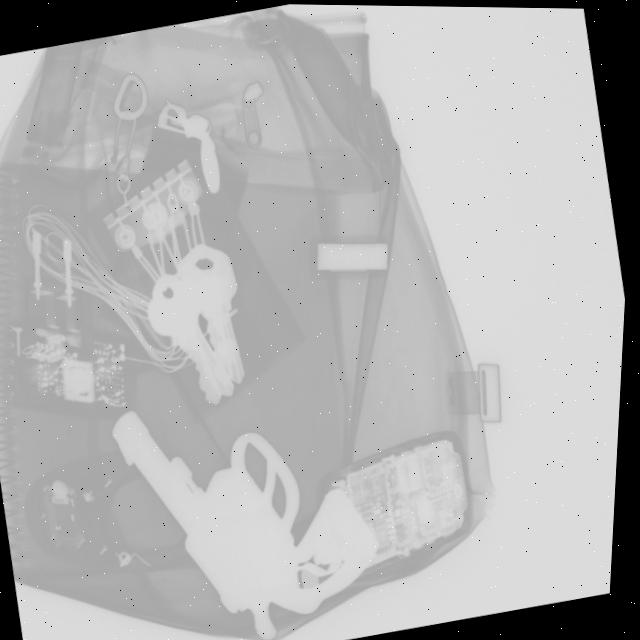grenade: (318, 421, 509, 577)
